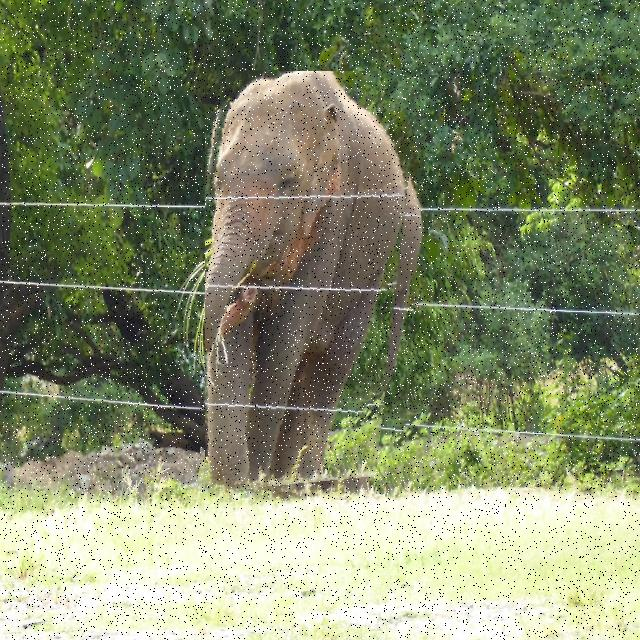elephant: (205, 71, 423, 497)
